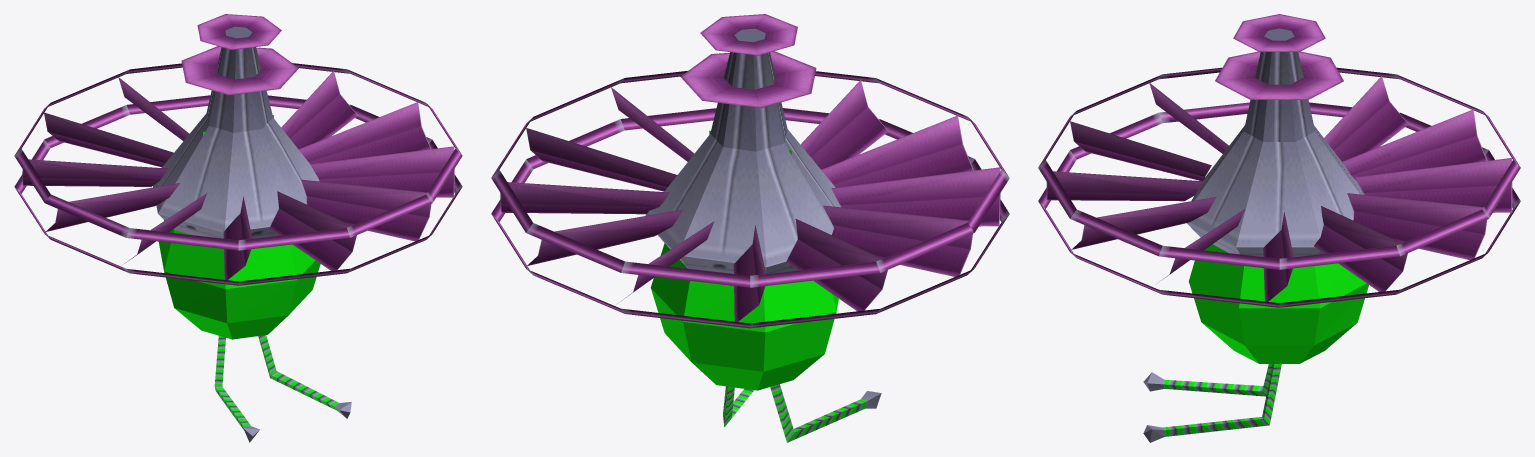
Rendered from FSAUCE.obj.
3 views of the same model, side by side, from view 1: azimuth 30°, elevation 25°; view 2: azimuth 150°, elevation 25°; view 3: azimuth 270°, elevation 25° (orthographic). The views are drawn at different scales.
Visible parts, largest first — view 1: FSAUCE_node00_face00, FSAUCE_node01_face07, FSAUCE_node01_face02, FSAUCE_node01_face10, FSAUCE_node01_face05, FSAUCE_node01_face09, FSAUCE_node01_face03; view 2: FSAUCE_node00_face00, FSAUCE_node01_face07, FSAUCE_node01_face02, FSAUCE_node01_face10, FSAUCE_node01_face09, FSAUCE_node01_face03, FSAUCE_node01_face05; view 3: FSAUCE_node00_face00, FSAUCE_node01_face07, FSAUCE_node01_face02, FSAUCE_node01_face10, FSAUCE_node01_face05, FSAUCE_node01_face09, FSAUCE_node01_face03.
Boxes of the visible parts, bbox=[...] form: FSAUCE_node00_face00: bbox=[14, 63, 462, 285]; FSAUCE_node01_face07: bbox=[153, 47, 319, 232]; FSAUCE_node01_face02: bbox=[159, 220, 320, 339]; FSAUCE_node01_face10: bbox=[181, 14, 298, 95]; FSAUCE_node01_face05: bbox=[258, 335, 339, 410]; FSAUCE_node01_face09: bbox=[214, 336, 250, 429]; FSAUCE_node01_face03: bbox=[158, 214, 278, 238]; FSAUCE_node00_face00: bbox=[491, 71, 1009, 328]; FSAUCE_node01_face07: bbox=[645, 52, 840, 267]; FSAUCE_node01_face02: bbox=[650, 243, 838, 390]; FSAUCE_node01_face10: bbox=[680, 14, 816, 107]; FSAUCE_node01_face09: bbox=[770, 384, 867, 442]; FSAUCE_node01_face03: bbox=[657, 234, 797, 273]; FSAUCE_node01_face05: bbox=[723, 386, 753, 426]; FSAUCE_node00_face00: bbox=[1038, 67, 1520, 307]; FSAUCE_node01_face07: bbox=[1190, 52, 1363, 247]; FSAUCE_node01_face02: bbox=[1188, 244, 1368, 363]; FSAUCE_node01_face10: bbox=[1215, 14, 1343, 99]; FSAUCE_node01_face05: bbox=[1163, 364, 1281, 436]; FSAUCE_node01_face09: bbox=[1162, 364, 1272, 396]; FSAUCE_node01_face03: bbox=[1187, 222, 1323, 256].
Size of the model in its own units: 500 by 438 by 500.
6 materials, 6 textured.
